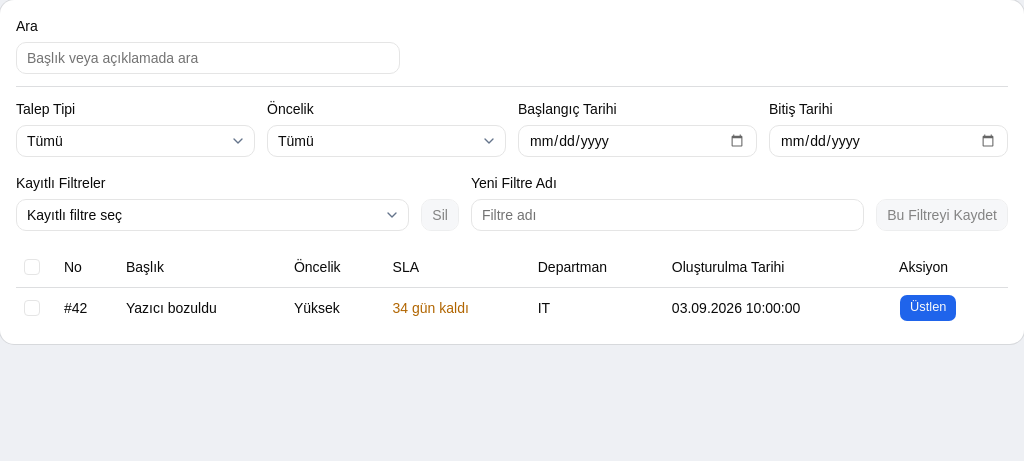
Test: Queue page › shows the filtered-empty state with a clear button when filters match nothing
The width and height of the screenshot is (1024, 461).
Check: the table is shown, box [16,247,1008,328]
Select "Düşük" in the dropdown labelled "Öncelik" at x=386, y=141, box [267,125,506,157]
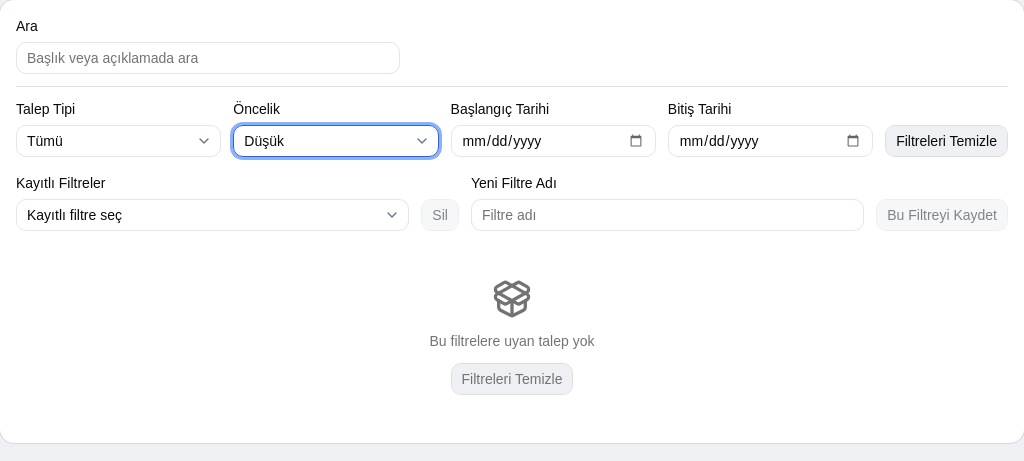
Check: the text "Bu filtrelere uyan talep yok" is shown, box [430,331,594,351]
Check: the table is gone
Check: the number of buttons "Filtreleri Temizle" is 2, box [885,125,1008,157]; [451,363,574,395]
